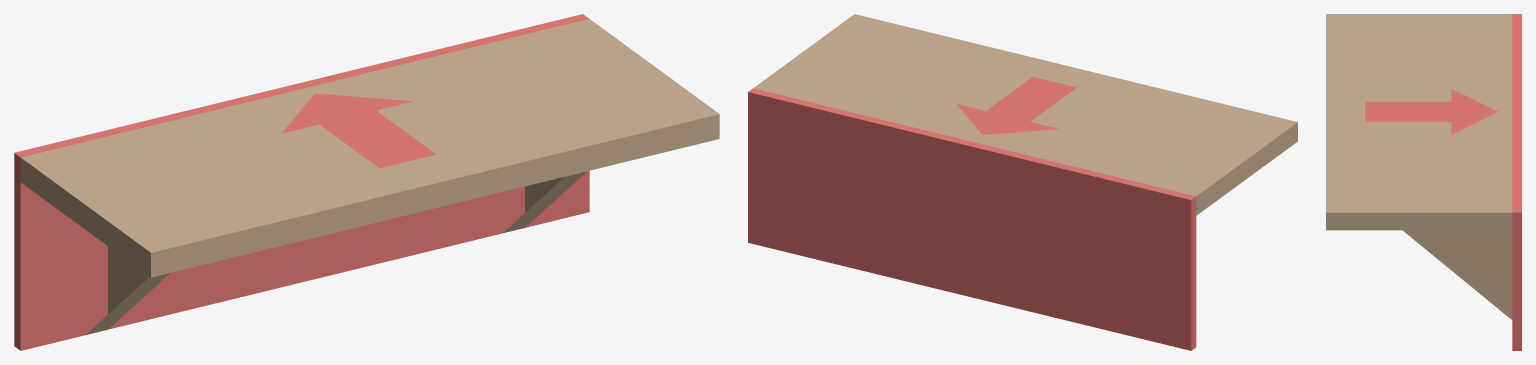
The model's file is shelf.glb.
The picture shows the model from 3 angles, left to right: view 1: azimuth 30°, elevation 25°; view 2: azimuth 150°, elevation 25°; view 3: azimuth 270°, elevation 25°; orthographic projection. The views are drawn at different scales.
Parts seen in each view (by area): view 1: Shelf; view 2: Shelf; view 3: Shelf.
Boxes of the visible parts, left/top/right/bottom form: Shelf: left=14, top=14, right=719, bottom=350; Shelf: left=748, top=14, right=1297, bottom=350; Shelf: left=1326, top=14, right=1521, bottom=350.
Bounding box in the file's own units: 0.6 × 0.197 × 0.25.
